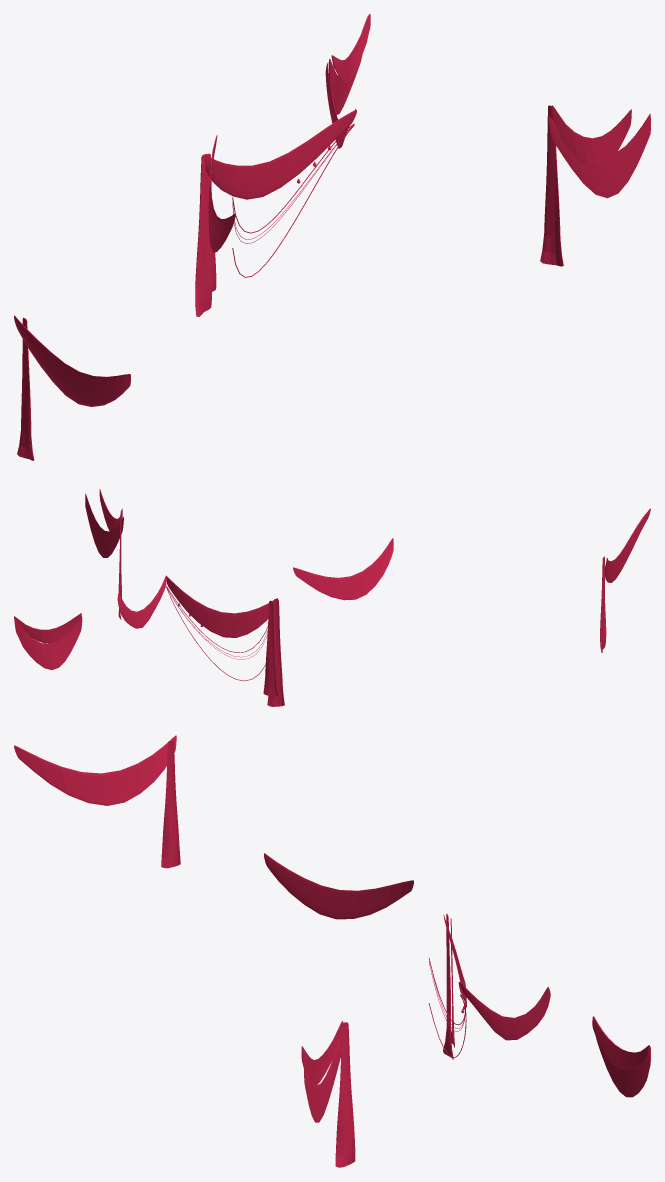
File: cortinas.fbx
3 views of the same model, one above another, from view 1: azimuth 30°, elevation 25°; view 2: azimuth 150°, elevation 25°; view 3: azimuth 270°, elevation 25° (orthographic). The views are drawn at different scales.
Parts seen in each view (by area): view 1: Plane.017, Plane.025, Plane.015, Plane.014, Plane.016, Plane.018, Plane.026, Plane.024, Plane.013, Plane.012; view 2: Plane.017, Plane.024, Plane.012, Plane.015, Plane.019, Plane.018, Plane.025, Plane.022, Plane.013, Plane.026, Plane.014; view 3: Plane.025, Plane.024, Plane.016, Plane.022, Plane.026, Plane.015, Plane.012, Plane.013, Plane.014, Plane.018.
Boxes of the visible parts, <box> form: Plane.017: <box>205,109,356,199</box>; Plane.025: <box>14,315,130,406</box>; Plane.015: <box>548,113,650,198</box>; Plane.014: <box>552,105,631,168</box>; Plane.016: <box>540,105,563,266</box>; Plane.018: <box>195,154,211,316</box>; Plane.026: <box>17,317,34,460</box>; Plane.024: <box>208,135,235,252</box>; Plane.013: <box>331,14,370,82</box>; Plane.012: <box>328,16,367,114</box>; Plane.017: <box>166,576,277,637</box>; Plane.024: <box>293,538,393,600</box>; Plane.012: <box>14,616,82,669</box>; Plane.015: <box>85,493,123,557</box>; Plane.019: <box>263,600,278,695</box>; Plane.018: <box>267,599,284,706</box>; Plane.025: <box>604,508,650,582</box>; Plane.022: <box>117,575,166,628</box>; Plane.013: <box>14,613,81,643</box>; Plane.026: <box>600,556,606,652</box>; Plane.014: <box>99,489,122,531</box>; Plane.025: <box>14,735,176,805</box>; Plane.024: <box>264,853,413,919</box>; Plane.016: <box>335,1022,355,1167</box>; Plane.022: <box>459,982,550,1040</box>; Plane.026: <box>161,740,180,868</box>; Plane.015: <box>304,1035,341,1122</box>; Plane.012: <box>596,1037,650,1097</box>; Plane.013: <box>592,1016,649,1069</box>; Plane.014: <box>301,1021,343,1085</box>; Plane.018: <box>443,913,453,1059</box>.
Bounding box in the file's own units: 1800 × 473 × 1571.
